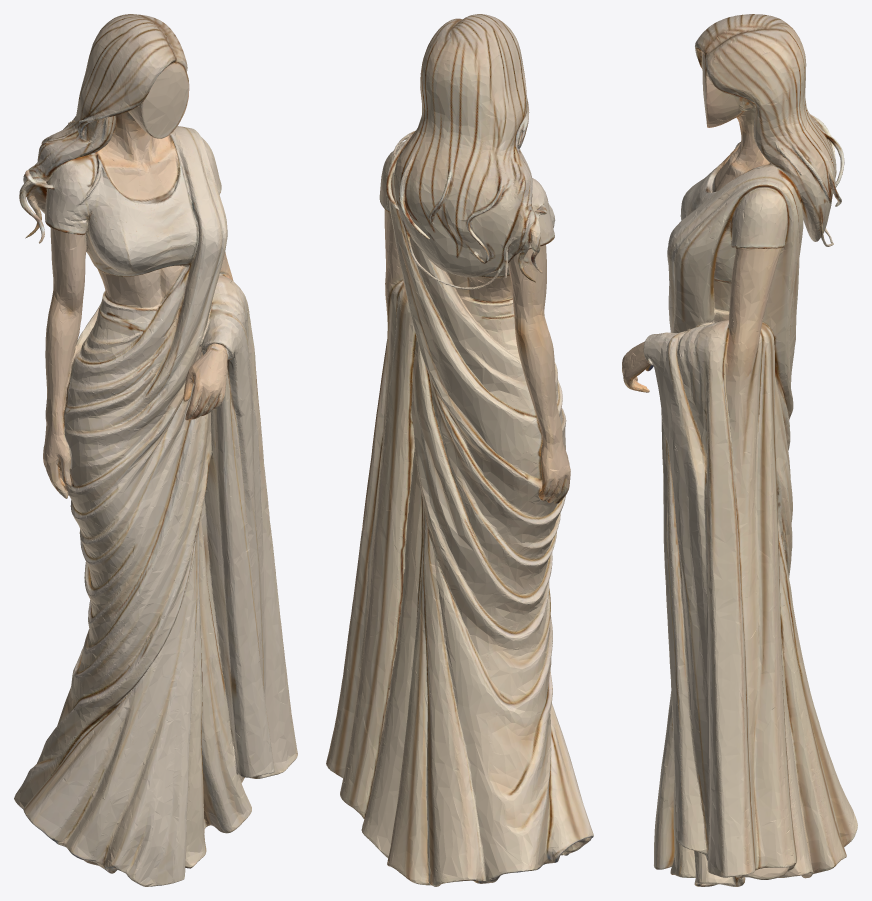
File: over-the-drape.simplified.glb
3 views of the same model, side by side, from view 1: azimuth 30°, elevation 25°; view 2: azimuth 150°, elevation 25°; view 3: azimuth 270°, elevation 25° (orthographic). The views are drawn at different scales.
Parts seen in each view (by area): view 1: world; view 2: world; view 3: world.
Part boxes in pixels (bbox=[...]): world: bbox=[14, 14, 297, 886]; world: bbox=[326, 14, 593, 886]; world: bbox=[622, 14, 857, 886].
Bounding box in the file's own units: 0.6544 × 1.99 × 0.4974.
Materials: 1 (1 with a texture image).
